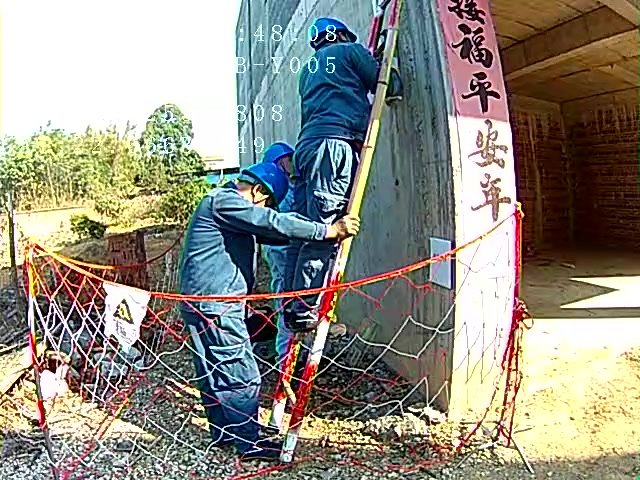downsuit: (286, 142, 357, 317), (185, 318, 263, 452)
halt: (234, 161, 289, 208), (309, 17, 357, 47), (261, 142, 295, 177)
hand: (324, 212, 361, 243)
inear: (251, 181, 267, 205), (330, 31, 346, 43)
person: (175, 140, 362, 451), (289, 15, 403, 326), (254, 141, 300, 370)
support: (174, 158, 362, 455)
upsuit: (176, 182, 327, 321), (298, 40, 401, 143)
